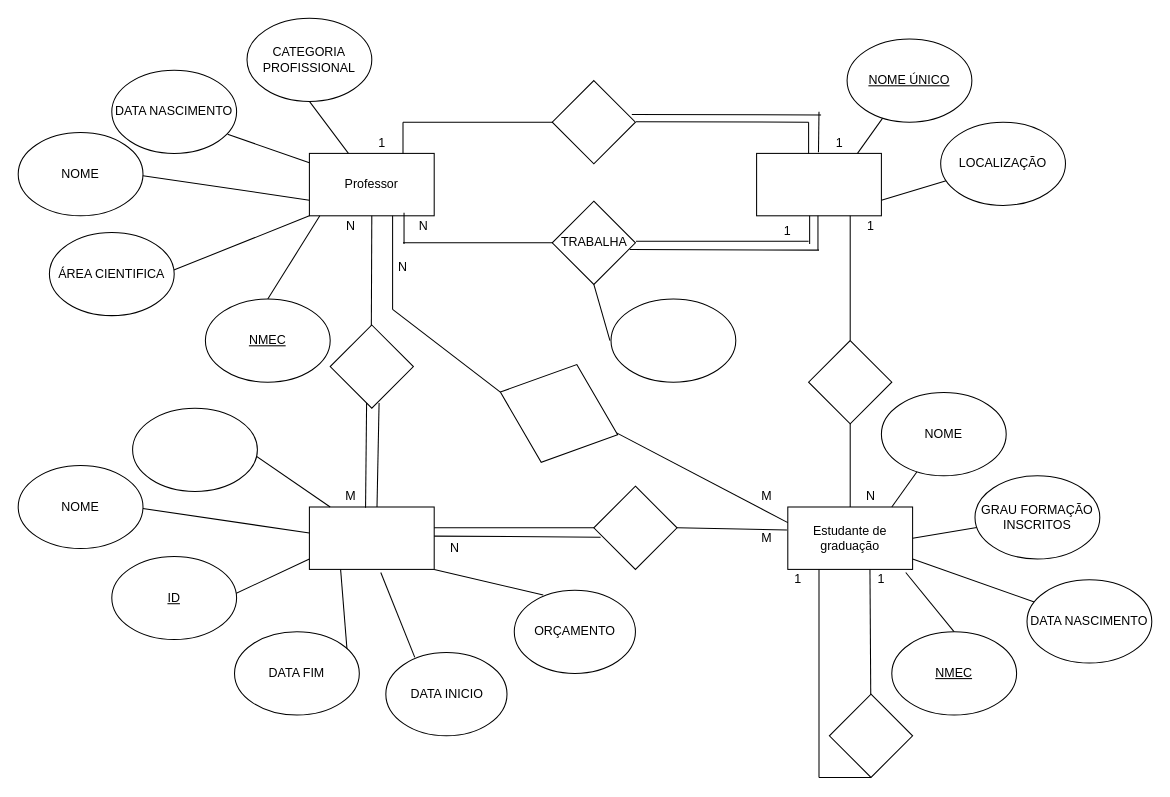
This 1170x797 diagram has some shape labels left out. The shapes that lost their labels are listed below. From the top down, each one's centre as x and y in pixels, then its label:
At pixel 593 122: "DIRIGE".
At pixel 818 184: "Departamento".
At pixel 673 340: "% PARTICIPAÇÃO".
At pixel 371 366: "GERE".
At pixel 850 382: "FREQUENTA".
At pixel 558 413: "SUPERVISIONA".
At pixel 194 449: "ENTIDADE FINANCIADORA".
At pixel 371 537: "Projeto de Investigação".
At pixel 635 527: "PARTICIPA".
At pixel 870 735: "ACONSELHA".
